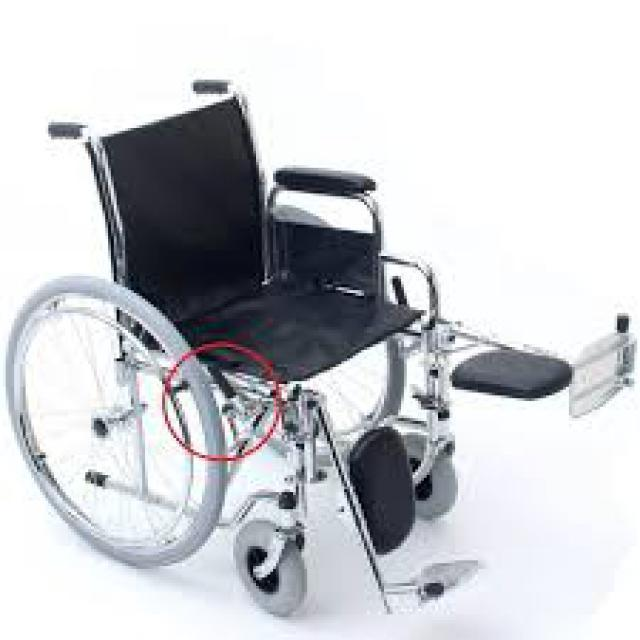wheelchairs: (7, 83, 620, 610)
